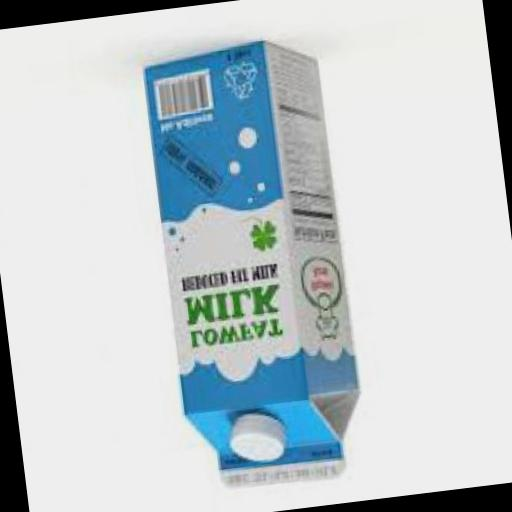cardboard: (138, 37, 368, 497)
